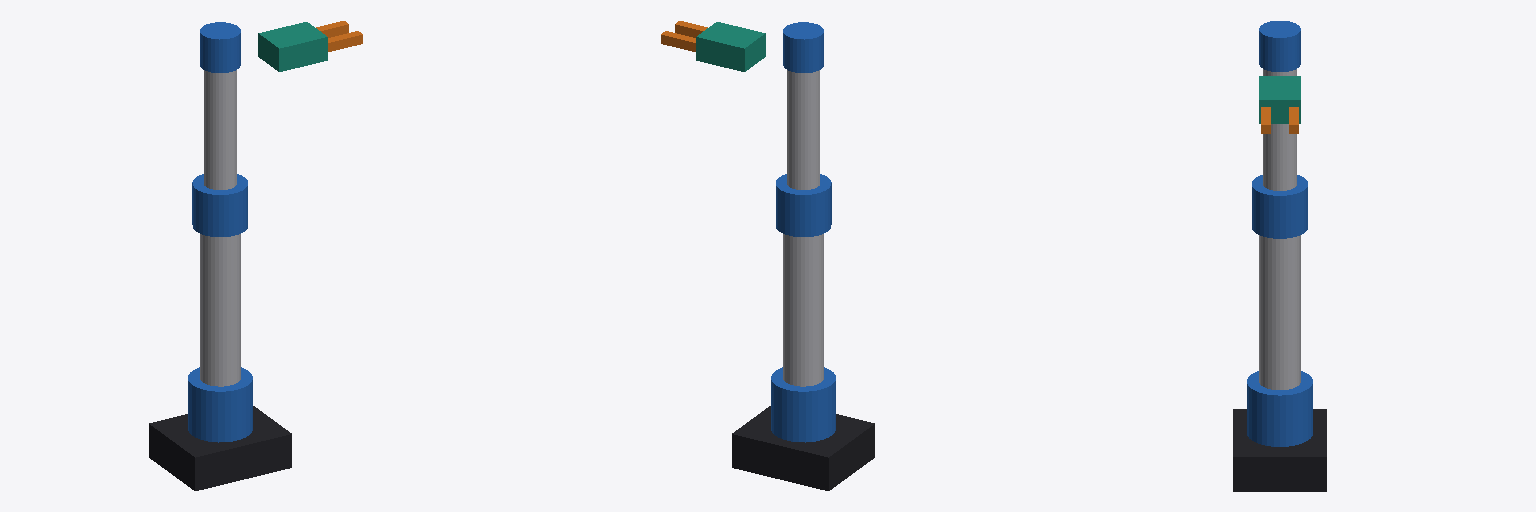
robot.urdf — adaptive_gripper_arm:
<?xml version="1.0"?>
<robot name="adaptive_gripper_arm">
  <!--
    FULLY CORRECTED URDF for Tabletop Robotic Arm
    - Stands upright at rest (all joints = 0)
    - Clear visual distinction: fat cylinders = joints, slim cylinders = links
    - Total height: ~0.44m from base to gripper
    - Fingers point forward (+X), open/close on Z axis
    - All coordinates in meters, angles in radians
  -->

  <material name="mat_base">
    <color rgba="0.18 0.18 0.20 1.0"/>
  </material>
  <material name="mat_blue">
    <color rgba="0.20 0.45 0.75 1.0"/>
  </material>
  <material name="mat_orange">
    <color rgba="0.85 0.48 0.16 1.0"/>
  </material>
  <material name="mat_silver">
    <color rgba="0.72 0.72 0.74 1.0"/>
  </material>
  <material name="mat_gripper">
    <color rgba="0.16 0.58 0.50 1.0"/>
  </material>

  <!-- World anchor keeps the tabletop base fixed in simulation. -->
  <link name="world"/>

  <!-- ================================================================ -->
  <!-- BASE_LINK: Wide flat platform, sits on ground (Z=0) -->
  <!-- ================================================================ -->
  <link name="base_link">
    <inertial>
      <origin xyz="0 0 0.02" rpy="0 0 0"/>
      <mass value="0.80"/>
      <inertia ixx="0.0011267" ixy="0.0" ixz="0.0" iyy="0.0011267" iyz="0.0" izz="0.0019200"/>
    </inertial>
    <!-- Visual: 0.12(X) × 0.10(Y) × 0.04(Z) box, centered at top surface -->
    <visual>
      <origin xyz="0 0 0.02" rpy="0 0 0"/>
      <geometry>
        <box size="0.12 0.10 0.04"/>
      </geometry>
      <material name="mat_base"/>
    </visual>
    <collision>
      <origin xyz="0 0 0.02" rpy="0 0 0"/>
      <geometry>
        <box size="0.12 0.10 0.04"/>
      </geometry>
    </collision>
  </link>

  <joint name="world_to_base" type="fixed">
    <parent link="world"/>
    <child link="base_link"/>
    <!-- Base frame sits on ground plane at world origin. -->
    <origin xyz="0 0 0" rpy="0 0 0"/>
  </joint>

  <!-- ================================================================ -->
  <!-- SHOULDER: Joint block (cylinder servo motor shape) on top of base -->
  <!-- Rotates around Z (yaw) for base rotation of arm                  -->
  <!-- ================================================================ -->
  <link name="shoulder_link">
    <inertial>
      <origin xyz="0 0 0.03" rpy="0 0 0"/>
      <mass value="0.25"/>
      <inertia ixx="0.0001771" ixy="0.0" ixz="0.0" iyy="0.0001771" iyz="0.0" izz="0.0001500"/>
    </inertial>
    <!-- Visual: cylinder R=0.035 L=0.06 along Z (servo housing) -->
    <visual>
      <origin xyz="0 0 0.03" rpy="0 0 0"/>
      <geometry>
        <cylinder length="0.06" radius="0.035"/>
      </geometry>
      <material name="mat_blue"/>
    </visual>
    <collision>
      <origin xyz="0 0 0.03" rpy="0 0 0"/>
      <geometry>
        <cylinder length="0.06" radius="0.035"/>
      </geometry>
    </collision>
  </link>

  <!-- Shoulder joint: rotates around Z axis (yaw) ±90° -->
  <joint name="shoulder_joint" type="revolute">
    <parent link="base_link"/>
    <child link="shoulder_link"/>
    <!-- Shoulder pivot is at the top face of base_link (base height = 0.04 m). -->
    <origin xyz="0 0 0.04" rpy="0 0 0"/>
    <axis xyz="0 0 1"/>
    <limit lower="-1.5708" upper="1.5708" effort="4.0" velocity="1.5"/>
    <dynamics damping="0.2" friction="0.08"/>
  </joint>

  <!-- Fixed offset: places upper_arm at top of shoulder cylinder -->
  <joint name="shoulder_to_upper_arm" type="fixed">
    <parent link="shoulder_link"/>
    <child link="upper_arm_link"/>
    <!-- Upper arm root is at the top of shoulder cylinder (shoulder length = 0.06 m). -->
    <origin xyz="0 0 0.06" rpy="0 0 0"/>
  </joint>

  <!-- ================================================================ -->
  <!-- UPPER_ARM: Slim cylinder extending upward (+Z) from shoulder     -->
  <!-- ================================================================ -->
  <link name="upper_arm_link">
    <inertial>
      <origin xyz="0 0 0.09" rpy="0 0 0"/>
      <mass value="0.22"/>
      <inertia ixx="0.0000587" ixy="0.0" ixz="0.0" iyy="0.0006233" iyz="0.0" izz="0.0006233"/>
    </inertial>
    <!-- Visual: slim cylinder R=0.022 L=0.18 along Z (arm segment) -->
    <visual>
      <origin xyz="0 0 0.09" rpy="0 0 0"/>
      <geometry>
        <cylinder length="0.18" radius="0.022"/>
      </geometry>
      <material name="mat_silver"/>
    </visual>
    <collision>
      <origin xyz="0 0 0.09" rpy="0 0 0"/>
      <geometry>
        <cylinder length="0.18" radius="0.022"/>
      </geometry>
    </collision>
  </link>

  <!-- ================================================================ -->
  <!-- ELBOW: Joint block at end of upper arm, rotates forearm in Y     -->
  <!-- ================================================================ -->
  <link name="elbow_link">
    <inertial>
      <origin xyz="0 0 0.025" rpy="0 0 0"/>
      <mass value="0.18"/>
      <inertia ixx="0.0000750" ixy="0.0" ixz="0.0" iyy="0.0000750" iyz="0.0" izz="0.0000750"/>
    </inertial>
    <!-- Visual: cylinder R=0.030 L=0.05 along Z (servo housing) -->
    <visual>
      <origin xyz="0 0 0.025" rpy="0 0 0"/>
      <geometry>
        <cylinder length="0.05" radius="0.030"/>
      </geometry>
      <material name="mat_blue"/>
    </visual>
    <collision>
      <origin xyz="0 0 0.025" rpy="0 0 0"/>
      <geometry>
        <cylinder length="0.05" radius="0.030"/>
      </geometry>
    </collision>
  </link>

  <!-- Elbow joint: rotates around Y axis (pitch) ±90° -->
  <!-- Positioned at Z=0.18 above shoulder joint (top of upper_arm) -->
  <joint name="elbow_joint" type="revolute">
    <parent link="upper_arm_link"/>
    <child link="elbow_link"/>
    <!-- Elbow pivot is at the top end of upper_arm_link (upper arm length = 0.18 m). -->
    <origin xyz="0 0 0.18" rpy="0 0 0"/>
    <axis xyz="0 1 0"/>
    <limit lower="-1.5708" upper="1.5708" effort="3.0" velocity="1.5"/>
    <dynamics damping="0.18" friction="0.06"/>
  </joint>

  <!-- Fixed offset: places forearm at top of elbow servo -->
  <joint name="elbow_to_forearm" type="fixed">
    <parent link="elbow_link"/>
    <child link="forearm_link"/>
    <!-- Forearm root is at the top of elbow cylinder (elbow length = 0.05 m). -->
    <origin xyz="0 0 0.05" rpy="0 0 0"/>
  </joint>

  <!-- ================================================================ -->
  <!-- FOREARM: Medium slim cylinder extending upward from elbow        -->
  <!-- ================================================================ -->
  <link name="forearm_link">
    <inertial>
      <origin xyz="0 0 0.07" rpy="0 0 0"/>
      <mass value="0.18"/>
      <inertia ixx="0.0000368" ixy="0.0" ixz="0.0" iyy="0.0004024" iyz="0.0" izz="0.0004024"/>
    </inertial>
    <!-- Visual: slim cylinder R=0.018 L=0.14 along Z (arm segment) -->
    <visual>
      <origin xyz="0 0 0.07" rpy="0 0 0"/>
      <geometry>
        <cylinder length="0.14" radius="0.018"/>
      </geometry>
      <material name="mat_silver"/>
    </visual>
    <collision>
      <origin xyz="0 0 0.07" rpy="0 0 0"/>
      <geometry>
        <cylinder length="0.14" radius="0.018"/>
      </geometry>
    </collision>
  </link>

  <!-- ================================================================ -->
  <!-- WRIST: Small joint block at end of forearm                      -->
  <!-- ================================================================ -->
  <link name="wrist_link">
    <inertial>
      <origin xyz="0 0 0.02" rpy="0 0 0"/>
      <mass value="0.12"/>
      <inertia ixx="0.0000405" ixy="0.0" ixz="0.0" iyy="0.0000405" iyz="0.0" izz="0.0000405"/>
    </inertial>
    <!-- Visual: small cylinder R=0.022 L=0.04 along Z (servo) -->
    <visual>
      <origin xyz="0 0 0.02" rpy="0 0 0"/>
      <geometry>
        <cylinder length="0.04" radius="0.022"/>
      </geometry>
      <material name="mat_blue"/>
    </visual>
    <collision>
      <origin xyz="0 0 0.02" rpy="0 0 0"/>
      <geometry>
        <cylinder length="0.04" radius="0.022"/>
      </geometry>
    </collision>
  </link>

  <!-- Wrist joint: rotates around Y axis (pitch) ±90° -->
  <!-- Positioned at Z=0.14 above elbow joint (top of forearm) -->
  <joint name="wrist_joint" type="revolute">
    <parent link="forearm_link"/>
    <child link="wrist_link"/>
    <!-- Wrist pivot is at the top end of forearm_link (forearm length = 0.14 m). -->
    <origin xyz="0 0 0.14" rpy="0 0 0"/>
    <axis xyz="0 1 0"/>
    <limit lower="-1.5708" upper="1.5708" effort="2.0" velocity="2.0"/>
    <dynamics damping="0.12" friction="0.04"/>
  </joint>

  <!-- Fixed offset places gripper base in +X from wrist so palm faces forward. -->
  <joint name="wrist_to_gripper_base" type="fixed">
    <parent link="wrist_link"/>
    <child link="gripper_base_link"/>
    <!-- Gripper base origin is 0.06 m forward from wrist center. -->
    <origin xyz="0.06 0 0" rpy="0 0 0"/>
  </joint>

  <!-- ================================================================ -->
  <!-- GRIPPER_BASE (PALM): Flat platform where fingers attach          -->
  <!-- ================================================================ -->
  <link name="gripper_base_link">
    <inertial>
      <origin xyz="0.03 0 0" rpy="0 0 0"/>
      <mass value="0.10"/>
      <inertia ixx="0.0000185" ixy="0.0" ixz="0.0" iyy="0.0000352" iyz="0.0" izz="0.0000433"/>
    </inertial>
    <!-- Visual: flat box 0.06(X: forward) × 0.045(Y: side) × 0.028(Z: height) -->
    <visual>
      <origin xyz="0.03 0 0" rpy="0 0 0"/>
      <geometry>
        <box size="0.06 0.045 0.028"/>
      </geometry>
      <material name="mat_gripper"/>
    </visual>
    <collision>
      <origin xyz="0.03 0 0" rpy="0 0 0"/>
      <geometry>
        <box size="0.06 0.045 0.028"/>
      </geometry>
    </collision>
  </link>

  <!-- ================================================================ -->
  <!-- FINGER_LEFT: Thin appendage, rotates around Z (open/close)       -->
  <!-- ================================================================ -->
  <link name="finger_left_link">
    <inertial>
      <origin xyz="0.035 0 0" rpy="0 0 0"/>
      <mass value="0.03"/>
      <inertia ixx="0.0000012" ixy="0.0" ixz="0.0" iyy="0.0000131" iyz="0.0" izz="0.0000126"/>
    </inertial>
    <!-- Visual: thin box 0.065(X: length) × 0.011(Y: width) × 0.011(Z: height) -->
    <visual>
      <origin xyz="0.0325 0 0" rpy="0 0 0"/>
      <geometry>
        <box size="0.065 0.011 0.011"/>
      </geometry>
      <material name="mat_orange"/>
    </visual>
    <collision>
      <origin xyz="0.0325 0 0" rpy="0 0 0"/>
      <geometry>
        <box size="0.065 0.011 0.011"/>
      </geometry>
    </collision>
  </link>

  <!-- Left finger joint: rotates around Z (open at 0rad, close at ~1.57rad) -->
  <!-- Positioned at X=0.04 (near gripper end) and Y=+0.012 (left side, gap=0.024 between fingers) -->
  <joint name="finger_left_joint" type="revolute">
    <parent link="gripper_base_link"/>
    <child link="finger_left_link"/>
    <!-- Left finger hinge is at front of gripper base, offset +Y for left jaw. -->
    <origin xyz="0.04 0.015 0" rpy="0 0 0"/>
    <axis xyz="0 0 1"/>
    <limit lower="0.0" upper="1.5708" effort="1.5" velocity="2.0"/>
    <dynamics damping="0.08" friction="0.03"/>
  </joint>

  <!-- ================================================================ -->
  <!-- FINGER_RIGHT: Mirror of left finger, mimics left finger motion   -->
  <!-- ================================================================ -->
  <link name="finger_right_link">
    <inertial>
      <origin xyz="0.035 0 0" rpy="0 0 0"/>
      <mass value="0.03"/>
      <inertia ixx="0.0000012" ixy="0.0" ixz="0.0" iyy="0.0000131" iyz="0.0" izz="0.0000126"/>
    </inertial>
    <!-- Visual: thin box 0.065(X: length) × 0.011(Y: width) × 0.011(Z: height) -->
    <visual>
      <origin xyz="0.0325 0 0" rpy="0 0 0"/>
      <geometry>
        <box size="0.065 0.011 0.011"/>
      </geometry>
      <material name="mat_orange"/>
    </visual>
    <collision>
      <origin xyz="0.0325 0 0" rpy="0 0 0"/>
      <geometry>
        <box size="0.065 0.011 0.011"/>
      </geometry>
    </collision>
  </link>

  <!-- Right finger joint: axis inverted (Z→-Z), position mirrored to left -->
  <joint name="finger_right_joint" type="revolute">
    <parent link="gripper_base_link"/>
    <child link="finger_right_link"/>
    <!-- Right finger hinge is at front of gripper base, offset -Y for right jaw. -->
    <origin xyz="0.04 -0.015 0" rpy="0 0 0"/>
    <axis xyz="0 0 -1"/>
    <limit lower="-1.5708" upper="0.0" effort="1.5" velocity="2.0"/>
    <mimic joint="finger_left_joint" multiplier="1.0" offset="0.0"/>
    <dynamics damping="0.08" friction="0.03"/>
  </joint>

  <!-- ================================================================ -->
  <!-- ROS2 CONTROL: Joint state publishers and command interfaces      -->
  <!-- ================================================================ -->
  <ros2_control name="GazeboSimSystem" type="system">
    <hardware>
      <plugin>gz_ros2_control/GazeboSimSystem</plugin>
    </hardware>

    <joint name="shoulder_joint">
      <command_interface name="position">
        <param name="min">-1.5708</param>
        <param name="max">1.5708</param>
      </command_interface>
      <state_interface name="position"/>
      <state_interface name="velocity"/>
    </joint>

    <joint name="elbow_joint">
      <command_interface name="position">
        <param name="min">-1.5708</param>
        <param name="max">1.5708</param>
      </command_interface>
      <state_interface name="position"/>
      <state_interface name="velocity"/>
    </joint>

    <joint name="wrist_joint">
      <command_interface name="position">
        <param name="min">-1.5708</param>
        <param name="max">1.5708</param>
      </command_interface>
      <state_interface name="position"/>
      <state_interface name="velocity"/>
    </joint>

    <joint name="finger_left_joint">
      <command_interface name="position">
        <param name="min">0.0</param>
        <param name="max">1.5708</param>
      </command_interface>
      <state_interface name="position"/>
      <state_interface name="velocity"/>
    </joint>

    <joint name="finger_right_joint">
      <state_interface name="position"/>
      <state_interface name="velocity"/>
    </joint>
  </ros2_control>

  <!-- ================================================================ -->
  <!-- GAZEBO PLUGINS AND PHYSICS PROPERTIES                            -->
  <!-- ================================================================ -->
  <gazebo>
    <plugin filename="libgz_ros2_control-system.so" name="gz_ros2_control::GazeboSimROS2ControlPlugin"/>
  </gazebo>

  <gazebo reference="base_link">
    <material>Gazebo/DarkGrey</material>
    <mu1>1.0</mu1>
    <mu2>1.0</mu2>
    <kp>100000.0</kp>
    <kd>100.0</kd>
  </gazebo>

  <gazebo reference="shoulder_link">
    <material>Gazebo/Blue</material>
    <mu1>0.8</mu1>
    <mu2>0.8</mu2>
    <kp>60000.0</kp>
    <kd>80.0</kd>
  </gazebo>

  <gazebo reference="upper_arm_link">
    <material>Gazebo/White</material>
    <mu1>0.7</mu1>
    <mu2>0.7</mu2>
    <kp>50000.0</kp>
    <kd>70.0</kd>
  </gazebo>

  <gazebo reference="elbow_link">
    <material>Gazebo/Blue</material>
    <mu1>0.7</mu1>
    <mu2>0.7</mu2>
    <kp>50000.0</kp>
    <kd>70.0</kd>
  </gazebo>

  <gazebo reference="forearm_link">
    <material>Gazebo/White</material>
    <mu1>0.7</mu1>
    <mu2>0.7</mu2>
    <kp>50000.0</kp>
    <kd>70.0</kd>
  </gazebo>

  <gazebo reference="wrist_link">
    <material>Gazebo/Blue</material>
    <mu1>0.6</mu1>
    <mu2>0.6</mu2>
    <kp>40000.0</kp>
    <kd>60.0</kd>
  </gazebo>

  <gazebo reference="gripper_base_link">
    <material>Gazebo/Green</material>
    <mu1>0.9</mu1>
    <mu2>0.9</mu2>
    <kp>45000.0</kp>
    <kd>65.0</kd>
  </gazebo>

  <gazebo reference="finger_left_link">
    <material>Gazebo/Orange</material>
    <mu1>1.2</mu1>
    <mu2>1.2</mu2>
    <kp>35000.0</kp>
    <kd>55.0</kd>
  </gazebo>

  <gazebo reference="finger_right_link">
    <material>Gazebo/Orange</material>
    <mu1>1.2</mu1>
    <mu2>1.2</mu2>
    <kp>35000.0</kp>
    <kd>55.0</kd>
  </gazebo>

</robot>

--- Render facts (derived) ---
3 views of the same robot in one strip: view 1: azimuth 30°, elevation 25°; view 2: azimuth 150°, elevation 25°; view 3: azimuth 270°, elevation 25° (orthographic).
Model adaptive_gripper_arm with 10 links and 9 joints (5 revolute, 4 fixed), rooted at world, posed all joints at 0.
Links seen in each view (by area): view 1: base_link, upper_arm_link, shoulder_link, forearm_link, elbow_link, gripper_base_link, wrist_link; view 2: base_link, upper_arm_link, shoulder_link, forearm_link, elbow_link, gripper_base_link, wrist_link; view 3: upper_arm_link, base_link, shoulder_link, elbow_link, forearm_link, wrist_link, gripper_base_link.
Link boxes in pixels (x1,y1,x2,y2): base_link: (149, 406, 291, 490); upper_arm_link: (200, 234, 240, 386); shoulder_link: (188, 367, 252, 442); forearm_link: (204, 70, 236, 189); elbow_link: (192, 174, 247, 236); gripper_base_link: (258, 22, 327, 71); wrist_link: (200, 22, 240, 72); base_link: (732, 406, 874, 490); upper_arm_link: (783, 234, 823, 386); shoulder_link: (771, 367, 835, 442); forearm_link: (787, 70, 819, 189); elbow_link: (776, 174, 831, 236); gripper_base_link: (696, 22, 765, 71); wrist_link: (783, 22, 823, 72); upper_arm_link: (1259, 235, 1300, 389); base_link: (1233, 409, 1326, 491); shoulder_link: (1247, 371, 1312, 446); elbow_link: (1252, 175, 1307, 238); forearm_link: (1263, 69, 1296, 190); wrist_link: (1259, 21, 1300, 71); gripper_base_link: (1259, 76, 1300, 123).
Bounding box of the posed robot: 0.225 × 0.1 × 0.51 m (x, y, z).
Geometry: primitives only (box / cylinder / sphere), no mesh files.
